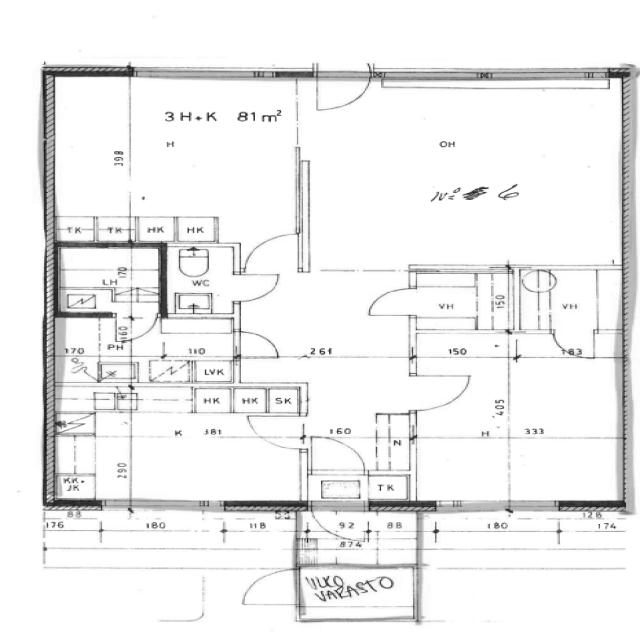door: (238, 275, 424, 359), (303, 500, 374, 548), (309, 69, 373, 117), (241, 229, 306, 274), (235, 566, 301, 610), (409, 372, 473, 414), (306, 434, 369, 476), (246, 415, 306, 452), (360, 285, 418, 320), (230, 270, 287, 304), (232, 327, 284, 362), (548, 328, 594, 358), (120, 314, 160, 342)
window: (130, 66, 270, 82), (129, 499, 219, 518), (430, 499, 511, 516), (504, 499, 564, 517)
zone: (302, 88, 623, 272), (49, 72, 300, 242), (51, 410, 309, 507), (236, 271, 413, 362), (506, 357, 622, 441), (53, 244, 164, 318), (515, 267, 622, 334), (297, 565, 418, 622), (412, 271, 516, 334), (165, 243, 239, 319), (146, 316, 236, 362), (194, 387, 301, 415), (364, 474, 410, 504), (191, 387, 235, 414), (266, 386, 305, 415)
